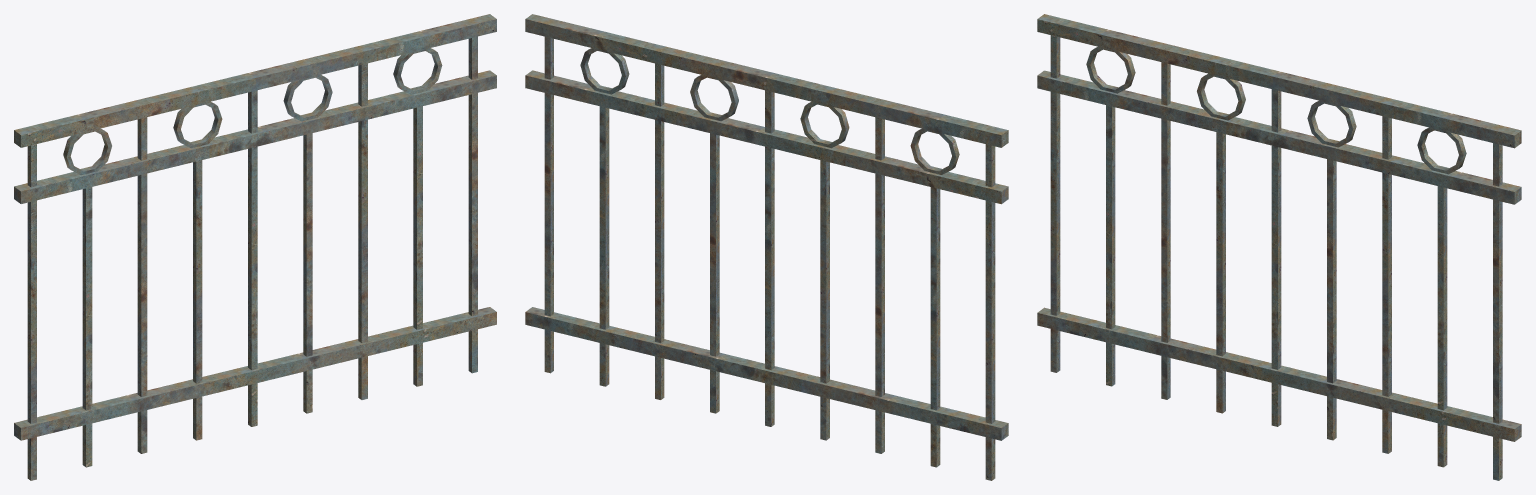
File: fence08.FBX
The picture shows the model from 3 angles, left to right: view 1: azimuth 30°, elevation 25°; view 2: azimuth 150°, elevation 25°; view 3: azimuth 330°, elevation 25°; orthographic projection.
Parts seen in each view (by area): view 1: metal_fence_small_mid_rail_ring; view 2: metal_fence_small_mid_rail_ring; view 3: metal_fence_small_mid_rail_ring.
Boxes of the visible parts, x1=… form: metal_fence_small_mid_rail_ring: x1=14, y1=14, x2=496, y2=480; metal_fence_small_mid_rail_ring: x1=525, y1=14, x2=1008, y2=480; metal_fence_small_mid_rail_ring: x1=1037, y1=14, x2=1521, y2=480.
Bounding box in the file's own units: 247 × 173 × 6.31.
